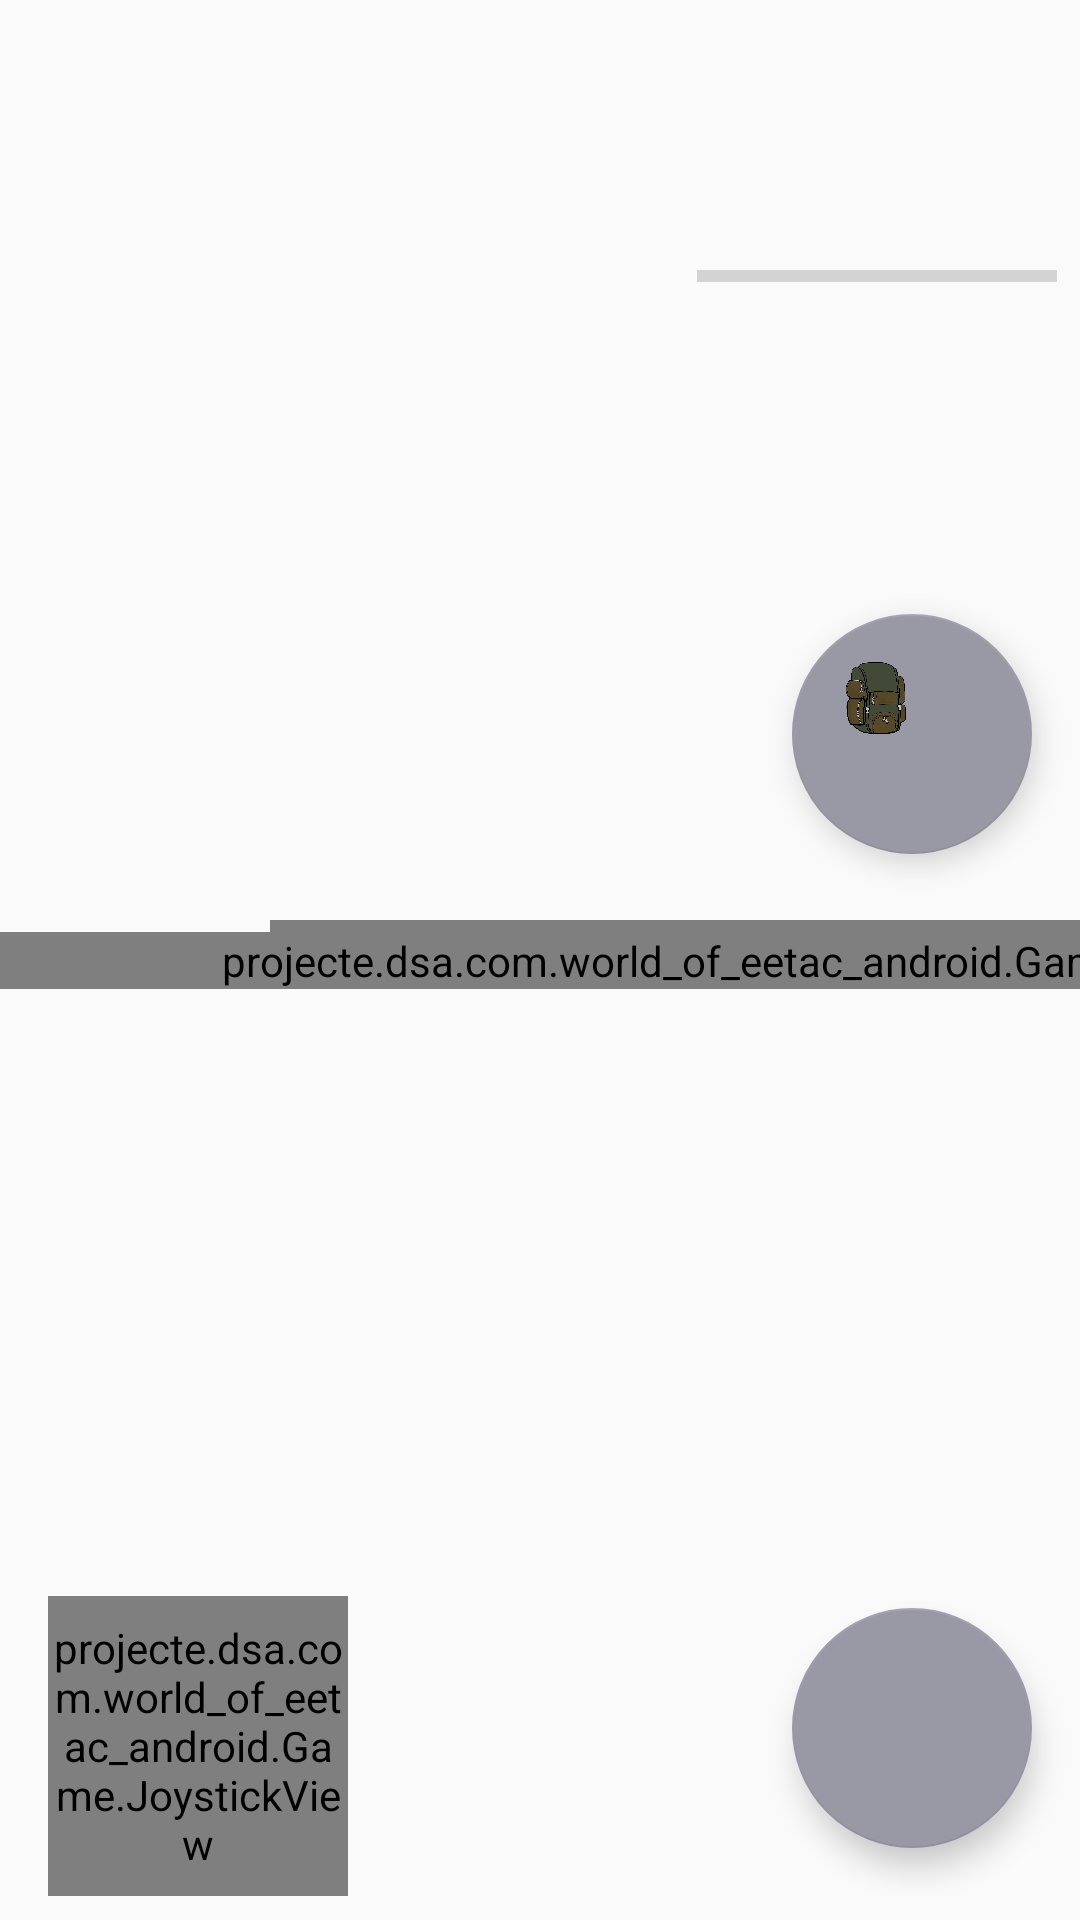

Named icons in this screenshot (1080 x 1920) and their centers, (x,y):
mochila: (912,734)
